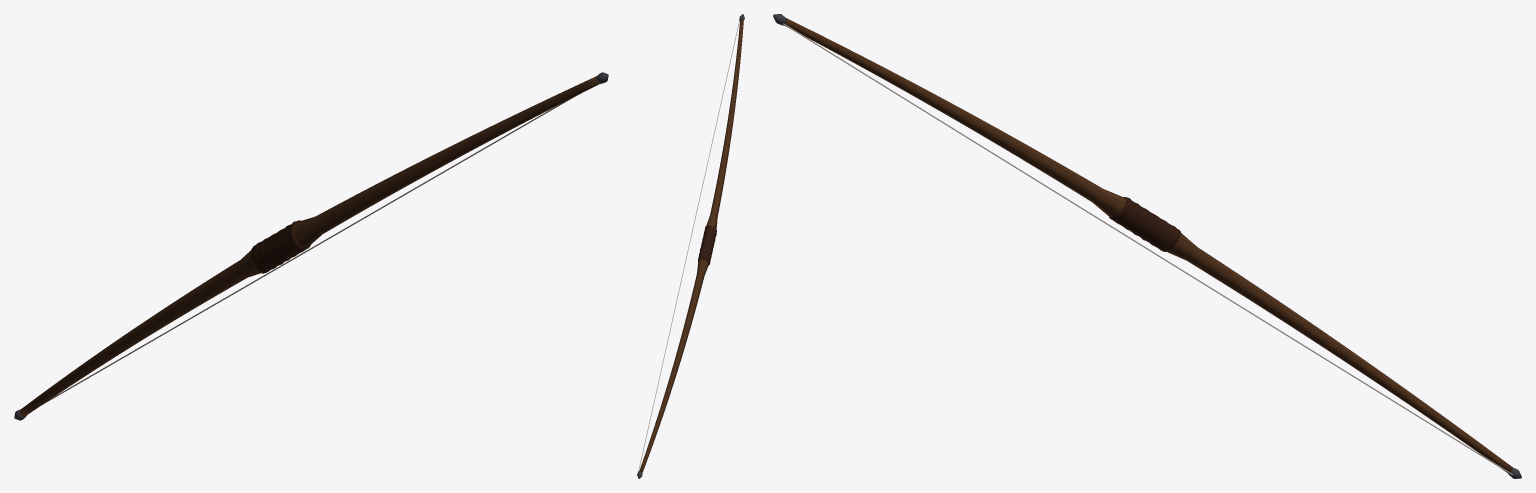
The model's file is weapon_ash_longbow.glb.
3 renders of one model, left to right at view 1: azimuth 30°, elevation 25°; view 2: azimuth 150°, elevation 25°; view 3: azimuth 270°, elevation 25°, orthographic. The views are drawn at different scales.
Visible parts, largest first — view 1: ash_longbow; view 2: ash_longbow; view 3: ash_longbow.
Part boxes in pixels (left/top/right/bottom): ash_longbow: left=14, top=72, right=608, bottom=420; ash_longbow: left=637, top=14, right=744, bottom=478; ash_longbow: left=773, top=14, right=1521, bottom=478.
Bounding box in the file's own units: 0.3648 × 1.03 × 1.27.
Materials: 4 (3 with a texture image).
